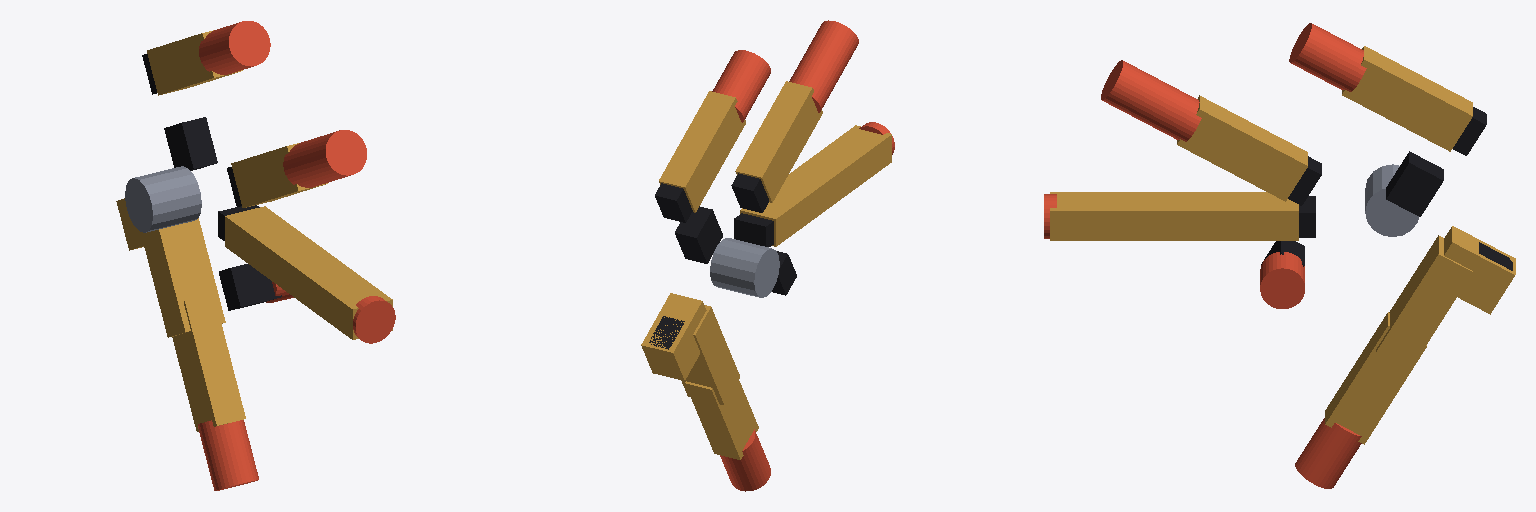
robot.urdf — g0063_c13:
<robot name="g0063_c13">
  <link name="palm">
    <visual name="palm_palm1">
      <origin xyz="0 0 0" rpy="0 0 0" />
      <geometry>
        <mesh filename="palm_palm1.obj" />
      </geometry>
      <material name="palm_palm1_mat">
        <color rgba="0.55 0.57 0.62 1" />
      </material>
    </visual>
    <collision>
      <origin xyz="0 0 0" rpy="0 0 0" />
      <geometry>
        <mesh filename="palm_palm1.obj" />
      </geometry>
    </collision>
    <visual name="palm_mount2">
      <origin xyz="0 0 0" rpy="0 0 0" />
      <geometry>
        <mesh filename="palm_mount2.obj" />
      </geometry>
      <material name="palm_mount2_mat">
        <color rgba="0.55 0.57 0.62 1" />
      </material>
    </visual>
    <collision>
      <origin xyz="0 0 0" rpy="0 0 0" />
      <geometry>
        <mesh filename="palm_mount2.obj" />
      </geometry>
    </collision>
    <visual name="palm_hinge3">
      <origin xyz="0 0.01625 0.0281458256" rpy="-1.57079633 0.523598776 1.57079633" />
      <geometry>
        <box size="0.029 0.034 0.02" />
      </geometry>
      <material name="palm_hinge3_mat">
        <color rgba="0.15 0.15 0.17 1" />
      </material>
    </visual>
    <collision>
      <origin xyz="0 0.01625 0.0281458256" rpy="-1.57079633 0.523598776 1.57079633" />
      <geometry>
        <box size="0.029 0.034 0.02" />
      </geometry>
    </collision>
    <visual name="palm_motor4">
      <origin xyz="-0.007 -0.08 -0.04" rpy="1.06057524e-16 -1.04719755 1.57079633" />
      <geometry>
        <box size="0.029 0.034 0.02" />
      </geometry>
      <material name="palm_motor4_mat">
        <color rgba="0.15 0.15 0.17 1" />
      </material>
    </visual>
    <collision>
      <origin xyz="-0.007 -0.08 -0.04" rpy="1.06057524e-16 -1.04719755 1.57079633" />
      <geometry>
        <box size="0.029 0.034 0.02" />
      </geometry>
    </collision>
    <visual name="palm_motor5">
      <origin xyz="-0.0045 -0.0725 1.37772765e-18" rpy="1.8369702e-16 -6.123234e-17 -1.12481984e-32" />
      <geometry>
        <box size="0.029 0.034 0.02" />
      </geometry>
      <material name="palm_motor5_mat">
        <color rgba="0.15 0.15 0.17 1" />
      </material>
    </visual>
    <collision>
      <origin xyz="-0.0045 -0.0725 1.37772765e-18" rpy="1.8369702e-16 -6.123234e-17 -1.12481984e-32" />
      <geometry>
        <box size="0.029 0.034 0.02" />
      </geometry>
    </collision>
    <visual name="palm_motor6">
      <origin xyz="0 -0.0735048095 0.03625" rpy="-1.57079633 -1.04719755 1.57079633" />
      <geometry>
        <box size="0.029 0.034 0.02" />
      </geometry>
      <material name="palm_motor6_mat">
        <color rgba="0.15 0.15 0.17 1" />
      </material>
    </visual>
    <collision>
      <origin xyz="0 -0.0735048095 0.03625" rpy="-1.57079633 -1.04719755 1.57079633" />
      <geometry>
        <box size="0.029 0.034 0.02" />
      </geometry>
    </collision>
    <visual name="palm_motor7">
      <origin xyz="-0.0045 0.0666996732 -0.0467548095" rpy="1.57079633 -0.523598776 -1.57079633" />
      <geometry>
        <box size="0.029 0.034 0.02" />
      </geometry>
      <material name="palm_motor7_mat">
        <color rgba="0.15 0.15 0.17 1" />
      </material>
    </visual>
    <collision>
      <origin xyz="-0.0045 0.0666996732 -0.0467548095" rpy="1.57079633 -0.523598776 -1.57079633" />
      <geometry>
        <box size="0.029 0.034 0.02" />
      </geometry>
    </collision>
    <inertial>
      <origin xyz="-7.77325775e-20 -0.0150038356 -0.0104806092" rpy="1.57079633 0.349887699 1.57079633" />
      <mass value="0.794555141" />
      <inertia ixx="0.000777185309" ixy="0" ixz="0" iyy="0.00218048392" iyz="0" izz="0.00288139193" />
    </inertial>
  </link>
  <link name="palm0">
    <visual name="palm0_palm1">
      <origin xyz="0 0 0" rpy="0 0 0" />
      <geometry>
        <mesh filename="palm0_palm1.obj" />
      </geometry>
      <material name="palm0_palm1_mat">
        <color rgba="0.55 0.57 0.62 1" />
      </material>
    </visual>
    <collision>
      <origin xyz="0 0 0" rpy="0 0 0" />
      <geometry>
        <mesh filename="palm0_palm1.obj" />
      </geometry>
    </collision>
    <visual name="palm0_motor2">
      <origin xyz="0 0.0264951905 0.0416089838" rpy="-1.57079633 -1.04719755 1.57079633" />
      <geometry>
        <box size="0.029 0.034 0.02" />
      </geometry>
      <material name="palm0_motor2_mat">
        <color rgba="0.15 0.15 0.17 1" />
      </material>
    </visual>
    <collision>
      <origin xyz="0 0.0264951905 0.0416089838" rpy="-1.57079633 -1.04719755 1.57079633" />
      <geometry>
        <box size="0.029 0.034 0.02" />
      </geometry>
    </collision>
    <inertial>
      <origin xyz="1.05917598e-18 0.0152554736 0.0247918143" rpy="1.57079633 0.50750624 1.57079633" />
      <mass value="0.233248565" />
      <inertia ixx="7.64424394e-05" ixy="0" ixz="0" iyy="0.00022302995" iyz="0" izz="0.000277080527" />
    </inertial>
  </link>
  <link name="f0_link0">
    <visual name="f0_link0_link1">
      <origin xyz="0.019 0 -6.9388939e-18" rpy="-1.57079633 -0 -1.57079633" />
      <geometry>
        <cylinder radius="0.0165" length="0.029" />
      </geometry>
      <material name="f0_link0_link1_mat">
        <color rgba="0.85 0.35 0.25 1" />
      </material>
    </visual>
    <collision>
      <origin xyz="0.019 0 -6.9388939e-18" rpy="-1.57079633 -0 -1.57079633" />
      <geometry>
        <cylinder radius="0.0165" length="0.029" />
      </geometry>
    </collision>
    <inertial>
      <origin xyz="0.019 0 0" rpy="0 0 0" />
      <mass value="0.0763354" />
      <inertia ixx="9.49466441e-06" ixy="0" ixz="0" iyy="2.24143997e-05" iyz="0" izz="2.24143997e-05" />
    </inertial>
  </link>
  <link name="f1_link0">
    <visual name="f1_link0_link1">
      <origin xyz="0.03875 0 0" rpy="0 -0 0" />
      <geometry>
        <box size="0.1015 0.033 0.024" />
      </geometry>
      <material name="f1_link0_link1_mat">
        <color rgba="0.80 0.62 0.30 1" />
      </material>
    </visual>
    <collision>
      <origin xyz="0.03875 0 0" rpy="0 -0 0" />
      <geometry>
        <box size="0.1015 0.033 0.024" />
      </geometry>
    </collision>
    <inertial>
      <origin xyz="0.03875 0 0" rpy="0 0 0" />
      <mass value="0.140679" />
      <inertia ixx="1.95192113e-05" ixy="0" ixz="0" iyy="0.000127528444" iyz="0" izz="0.000133542472" />
    </inertial>
  </link>
  <link name="f1_link1">
    <visual name="f1_link1_link1">
      <origin xyz="0.03875 0 3.08148791e-33" rpy="0 -0 0" />
      <geometry>
        <box size="0.1015 0.033 0.024" />
      </geometry>
      <material name="f1_link1_link1_mat">
        <color rgba="0.80 0.62 0.30 1" />
      </material>
    </visual>
    <collision>
      <origin xyz="0.03875 0 3.08148791e-33" rpy="0 -0 0" />
      <geometry>
        <box size="0.1015 0.033 0.024" />
      </geometry>
    </collision>
    <inertial>
      <origin xyz="0.03875 0 0" rpy="0 0 0" />
      <mass value="0.140679" />
      <inertia ixx="1.95192113e-05" ixy="0" ixz="0" iyy="0.000127528444" iyz="0" izz="0.000133542472" />
    </inertial>
  </link>
  <link name="f1_link2">
    <visual name="f1_link2_link1">
      <origin xyz="0.009 0 0" rpy="-1.57079633 -0 -1.57079633" />
      <geometry>
        <cylinder radius="0.0165" length="0.009" />
      </geometry>
      <material name="f1_link2_link1_mat">
        <color rgba="0.85 0.35 0.25 1" />
      </material>
    </visual>
    <collision>
      <origin xyz="0.009 0 0" rpy="-1.57079633 -0 -1.57079633" />
      <geometry>
        <cylinder radius="0.0165" length="0.009" />
      </geometry>
    </collision>
    <inertial>
      <origin xyz="0.009 0 0" rpy="0 0 0" />
      <mass value="0.046399949" />
      <inertia ixx="5.41970115e-06" ixy="0" ixz="0" iyy="7.09430898e-06" iyz="0" izz="7.09430898e-06" />
    </inertial>
  </link>
  <link name="f2_link0">
    <visual name="f2_link0_link1">
      <origin xyz="0.03375 0 -1.04083409e-17" rpy="0 7.03853194e-17 0" />
      <geometry>
        <box size="0.0915 0.024 0.033" />
      </geometry>
      <material name="f2_link0_link1_mat">
        <color rgba="0.80 0.62 0.30 1" />
      </material>
    </visual>
    <collision>
      <origin xyz="0.03375 0 -1.04083409e-17" rpy="0 7.03853194e-17 0" />
      <geometry>
        <box size="0.0915 0.024 0.033" />
      </geometry>
    </collision>
    <inertial>
      <origin xyz="0.03375 0 0" rpy="0 0 0" />
      <mass value="0.126819" />
      <inertia ixx="1.75961363e-05" ixy="0" ixz="0" iyy="9.99888553e-05" iyz="0" izz="9.45673431e-05" />
    </inertial>
  </link>
  <link name="f2_link1">
    <visual name="f2_link1_link1">
      <origin xyz="0.039 0 -1.77809156e-17" rpy="-1.57079633 -0 -1.57079633" />
      <geometry>
        <cylinder radius="0.0165" length="0.069" />
      </geometry>
      <material name="f2_link1_link1_mat">
        <color rgba="0.85 0.35 0.25 1" />
      </material>
    </visual>
    <collision>
      <origin xyz="0.039 0 -1.77809156e-17" rpy="-1.57079633 -0 -1.57079633" />
      <geometry>
        <cylinder radius="0.0165" length="0.069" />
      </geometry>
    </collision>
    <inertial>
      <origin xyz="0.039 0 0" rpy="0 0 0" />
      <mass value="0.136206302" />
      <inertia ixx="1.76445909e-05" ixy="0" ixz="0" iyy="0.000104842911" iyz="0" izz="0.000104842911" />
    </inertial>
  </link>
  <link name="f3_link0">
    <visual name="f3_link0_link1">
      <origin xyz="-0.00625 0 -0.0165" rpy="0 4.06369831e-17 0" />
      <geometry>
        <box size="0.0365 0.029 0.053" />
      </geometry>
      <material name="f3_link0_link1_mat">
        <color rgba="0.80 0.62 0.30 1" />
      </material>
    </visual>
    <collision>
      <origin xyz="-0.00625 0 -0.0165" rpy="0 4.06369831e-17 0" />
      <geometry>
        <box size="0.0365 0.029 0.053" />
      </geometry>
    </collision>
    <inertial>
      <origin xyz="-0.00625 0 -0.0165" rpy="0 0 0" />
      <mass value="0.098175875" />
      <inertia ixx="2.98618286e-05" ixy="0" ixz="0" iyy="3.38809035e-05" iyz="0" izz="1.778006e-05" />
    </inertial>
  </link>
  <link name="f3_link1">
    <visual name="f3_link1_link1">
      <origin xyz="0.03375 0 6.9388939e-18" rpy="0 4.06369831e-17 0" />
      <geometry>
        <box size="0.0915 0.033 0.029" />
      </geometry>
      <material name="f3_link1_link1_mat">
        <color rgba="0.80 0.62 0.30 1" />
      </material>
    </visual>
    <collision>
      <origin xyz="0.03375 0 6.9388939e-18" rpy="0 4.06369831e-17 0" />
      <geometry>
        <box size="0.0915 0.033 0.029" />
      </geometry>
    </collision>
    <inertial>
      <origin xyz="0.03375 0 0" rpy="0 0 0" />
      <mass value="0.153239625" />
      <inertia ixx="2.46460397e-05" ixy="0" ixz="0" iyy="0.000117652915" iyz="0" izz="0.000120819867" />
    </inertial>
  </link>
  <link name="f3_link2">
    <visual name="f3_link2_link1">
      <origin xyz="0.03375 0 -1.38777878e-17" rpy="0 4.06369831e-17 0" />
      <geometry>
        <box size="0.0915 0.024 0.033" />
      </geometry>
      <material name="f3_link2_link1_mat">
        <color rgba="0.80 0.62 0.30 1" />
      </material>
    </visual>
    <collision>
      <origin xyz="0.03375 0 -1.38777878e-17" rpy="0 4.06369831e-17 0" />
      <geometry>
        <box size="0.0915 0.024 0.033" />
      </geometry>
    </collision>
    <inertial>
      <origin xyz="0.03375 0 0" rpy="0 0 0" />
      <mass value="0.126819" />
      <inertia ixx="1.75961363e-05" ixy="0" ixz="0" iyy="9.99888553e-05" iyz="0" izz="9.45673431e-05" />
    </inertial>
  </link>
  <link name="f3_link3">
    <visual name="f3_link3_link1">
      <origin xyz="0.029 0 1.04083409e-17" rpy="-1.57079633 -0 -1.57079633" />
      <geometry>
        <cylinder radius="0.0165" length="0.049" />
      </geometry>
      <material name="f3_link3_link1_mat">
        <color rgba="0.85 0.35 0.25 1" />
      </material>
    </visual>
    <collision>
      <origin xyz="0.029 0 1.04083409e-17" rpy="-1.57079633 -0 -1.57079633" />
      <geometry>
        <cylinder radius="0.0165" length="0.049" />
      </geometry>
    </collision>
    <inertial>
      <origin xyz="0.029 0 0" rpy="0 0 0" />
      <mass value="0.106270851" />
      <inertia ixx="1.35696277e-05" ixy="0" ixz="0" iyy="5.30015704e-05" iyz="0" izz="5.30015704e-05" />
    </inertial>
  </link>
  <link name="f4_link0">
    <visual name="f4_link0_link1">
      <origin xyz="0.03375 0 0" rpy="0 7.03853194e-17 0" />
      <geometry>
        <box size="0.0915 0.024 0.033" />
      </geometry>
      <material name="f4_link0_link1_mat">
        <color rgba="0.80 0.62 0.30 1" />
      </material>
    </visual>
    <collision>
      <origin xyz="0.03375 0 0" rpy="0 7.03853194e-17 0" />
      <geometry>
        <box size="0.0915 0.024 0.033" />
      </geometry>
    </collision>
    <inertial>
      <origin xyz="0.03375 0 0" rpy="0 0 0" />
      <mass value="0.126819" />
      <inertia ixx="1.75961363e-05" ixy="0" ixz="0" iyy="9.99888553e-05" iyz="0" izz="9.45673431e-05" />
    </inertial>
  </link>
  <link name="f4_link1">
    <visual name="f4_link1_link1">
      <origin xyz="0.029 0 -6.9388939e-18" rpy="-1.57079633 -0 -1.57079633" />
      <geometry>
        <cylinder radius="0.0165" length="0.049" />
      </geometry>
      <material name="f4_link1_link1_mat">
        <color rgba="0.85 0.35 0.25 1" />
      </material>
    </visual>
    <collision>
      <origin xyz="0.029 0 -6.9388939e-18" rpy="-1.57079633 -0 -1.57079633" />
      <geometry>
        <cylinder radius="0.0165" length="0.049" />
      </geometry>
    </collision>
    <inertial>
      <origin xyz="0.029 0 0" rpy="0 0 0" />
      <mass value="0.106270851" />
      <inertia ixx="1.35696277e-05" ixy="0" ixz="0" iyy="5.30015704e-05" iyz="0" izz="5.30015704e-05" />
    </inertial>
  </link>
  <joint name="palm0_joint" type="revolute">
    <parent link="palm" />
    <child link="palm0" />
    <origin xyz="0 0.02 0.0346410162" rpy="0 0 0" />
    <axis xyz="0 0.866025404 -0.5" />
    <limit effort="0.5" lower="-0.523598776" upper="0.523598776" velocity="5" />
    <dynamics damping="0.0775033" friction="0" />
  </joint>
  <joint name="f0_j0" type="revolute">
    <parent link="palm" />
    <child link="f0_link0" />
    <origin xyz="0.0005 -0.08 -0.04" rpy="1.04719755 5.30287619e-17 -3.061617e-17" />
    <axis xyz="0 1 6.123234e-17" />
    <limit effort="0.5" lower="-0.523598776" upper="0.523598776" velocity="5" />
    <dynamics damping="0.0775033" friction="0" />
  </joint>
  <joint name="f1_j0" type="revolute">
    <parent link="palm" />
    <child link="f1_link0" />
    <origin xyz="-0.0045 -0.08 0" rpy="0 1.8369702e-16 -1.57079633" />
    <axis xyz="-0 -1 -6.123234e-17" />
    <limit effort="0.5" lower="-0.523598776" upper="0.523598776" velocity="5" />
    <dynamics damping="0.0775033" friction="0" />
  </joint>
  <joint name="f1_j1" type="revolute">
    <parent link="f1_link0" />
    <child link="f1_link1" />
    <origin xyz="0.08 0 0" rpy="0 0 0" />
    <axis xyz="-0 -1 -6.123234e-17" />
    <limit effort="0.5" lower="-0.523598776" upper="0.523598776" velocity="5" />
    <dynamics damping="0.0775033" friction="0" />
  </joint>
  <joint name="f1_j2" type="revolute">
    <parent link="f1_link1" />
    <child link="f1_link2" />
    <origin xyz="0.08 0 0" rpy="0 0 0" />
    <axis xyz="-0 -1 -6.123234e-17" />
    <limit effort="0.5" lower="-0.523598776" upper="0.523598776" velocity="5" />
    <dynamics damping="0.0775033" friction="0" />
  </joint>
  <joint name="f2_j0" type="revolute">
    <parent link="palm" />
    <child link="f2_link0" />
    <origin xyz="0 -0.08 0.04" rpy="-0 -0.523598776 -1.57079633" />
    <axis xyz="0 0 1" />
    <limit effort="0.5" lower="-0.523598776" upper="1.57079633" velocity="5" />
    <dynamics damping="0.0775033" friction="0" />
  </joint>
  <joint name="f2_j1" type="revolute">
    <parent link="f2_link0" />
    <child link="f2_link1" />
    <origin xyz="0.07 0 0" rpy="0 0 0" />
    <axis xyz="0 0 1" />
    <limit effort="0.5" lower="-0.523598776" upper="1.57079633" velocity="5" />
    <dynamics damping="0.0775033" friction="0" />
  </joint>
  <joint name="f3_j0" type="revolute">
    <parent link="palm" />
    <child link="f3_link0" />
    <origin xyz="-0.0045 0.04 -0.04" rpy="0 1.04719755 -1.57079633" />
    <axis xyz="0 0 1" />
    <limit effort="0.5" lower="-0.523598776" upper="1.57079633" velocity="5" />
    <dynamics damping="0.0775033" friction="0" />
  </joint>
  <joint name="f3_j1" type="revolute">
    <parent link="f3_link0" />
    <child link="f3_link1" />
    <origin xyz="0 0 0" rpy="0 0 0" />
    <axis xyz="0 1 6.123234e-17" />
    <limit effort="0.5" lower="-0.523598776" upper="0.523598776" velocity="5" />
    <dynamics damping="0.0775033" friction="0" />
  </joint>
  <joint name="f3_j2" type="revolute">
    <parent link="f3_link1" />
    <child link="f3_link2" />
    <origin xyz="0.07 0 0" rpy="0 0 0" />
    <axis xyz="0 0 1" />
    <limit effort="0.5" lower="-0.523598776" upper="1.57079633" velocity="5" />
    <dynamics damping="0.0775033" friction="0" />
  </joint>
  <joint name="f3_j3" type="revolute">
    <parent link="f3_link2" />
    <child link="f3_link3" />
    <origin xyz="0.07 0 0" rpy="0 0 0" />
    <axis xyz="0 0 1" />
    <limit effort="0.5" lower="-0.523598776" upper="1.57079633" velocity="5" />
    <dynamics damping="0.0775033" friction="0" />
  </joint>
  <joint name="f4_j0" type="revolute">
    <parent link="palm0" />
    <child link="f4_link0" />
    <origin xyz="0 0.02 0.0453589838" rpy="-0 -0.523598776 -1.57079633" />
    <axis xyz="0 0 1" />
    <limit effort="0.5" lower="-0.523598776" upper="1.57079633" velocity="5" />
    <dynamics damping="0.0775033" friction="0" />
  </joint>
  <joint name="f4_j1" type="revolute">
    <parent link="f4_link0" />
    <child link="f4_link1" />
    <origin xyz="0.07 0 0" rpy="0 0 0" />
    <axis xyz="0 0 1" />
    <limit effort="0.5" lower="-0.523598776" upper="1.57079633" velocity="5" />
    <dynamics damping="0.0775033" friction="0" />
  </joint>
</robot>

--- Facts derived from the render (not from the file) ---
Views: 3 orthographic renders of the robot side by side, from view 1: azimuth 30°, elevation 25°; view 2: azimuth 150°, elevation 25°; view 3: azimuth 270°, elevation 25°.
Model g0063_c13 with 14 links and 13 joints (13 revolute), rooted at palm, posed all joints at 0.
Visible links, largest first — view 1: palm, f3_link2, f3_link1, f1_link1, f1_link0, f2_link1, f3_link3, f4_link1, f2_link0, f4_link0, f1_link2, f3_link0; view 2: palm, f2_link0, f4_link0, f1_link0, f3_link2, f1_link1, f2_link1, f3_link0, f3_link1, f4_link1, f3_link3, palm0; view 3: palm, f4_link0, f2_link0, f1_link0, f1_link1, f3_link1, f3_link2, f2_link1, f4_link1, f3_link0, f3_link3, f0_link0 (+1 smaller).
Boxes of the visible links, x1,y1,x2,y2 form: palm: (125, 117, 281, 310); f3_link2: (172, 294, 245, 431); f3_link1: (141, 218, 225, 337); f1_link1: (281, 247, 392, 339); f1_link0: (225, 206, 321, 297); f2_link1: (283, 130, 366, 187); f3_link3: (198, 420, 258, 490); f4_link1: (199, 21, 270, 74); f2_link0: (231, 143, 327, 207); f4_link0: (147, 30, 242, 95); f1_link2: (353, 296, 395, 343); f3_link0: (116, 198, 143, 250); palm: (649, 173, 796, 349); f2_link0: (735, 81, 822, 202); f4_link0: (659, 91, 745, 212); f1_link0: (740, 163, 840, 246); f3_link2: (685, 381, 758, 459); f1_link1: (798, 125, 891, 207); f2_link1: (789, 20, 858, 112); f3_link0: (641, 293, 706, 380); f3_link1: (681, 305, 739, 405); f4_link1: (712, 50, 770, 122); f3_link3: (720, 429, 770, 491); palm0: (655, 183, 692, 222); palm: (1261, 151, 1512, 270); f4_link0: (1342, 46, 1472, 151); f2_link0: (1177, 95, 1307, 201); f1_link0: (1160, 192, 1298, 240); f1_link1: (1050, 192, 1188, 240); f3_link1: (1376, 235, 1472, 369); f3_link2: (1325, 312, 1426, 444); f2_link1: (1101, 60, 1201, 141); f4_link1: (1289, 23, 1366, 91); f3_link0: (1444, 226, 1515, 314); f3_link3: (1295, 418, 1361, 488); f0_link0: (1260, 252, 1304, 308).
Size in the robot's own frame: 0.086 by 0.343 by 0.3719 metres.
Meshes: 3 distinct files referenced, 1 mesh visuals loaded (1 OBJ); not drawn: 2 (reference not matched to a file when rendering).
